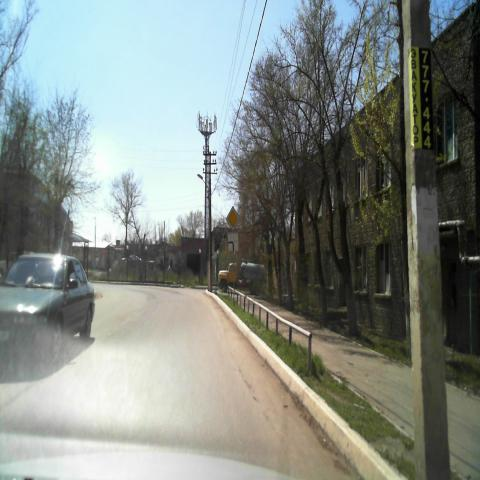8_13: (227, 232, 239, 252)
